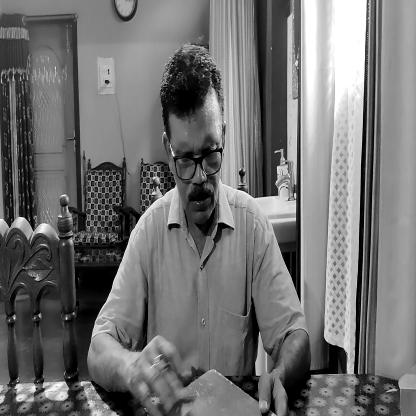Normal: (158, 47, 223, 222)
